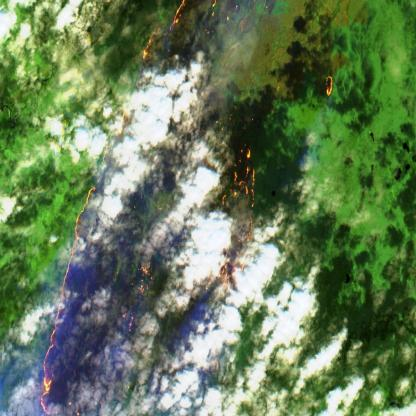fire: (36, 0, 262, 416), (318, 67, 343, 107)
